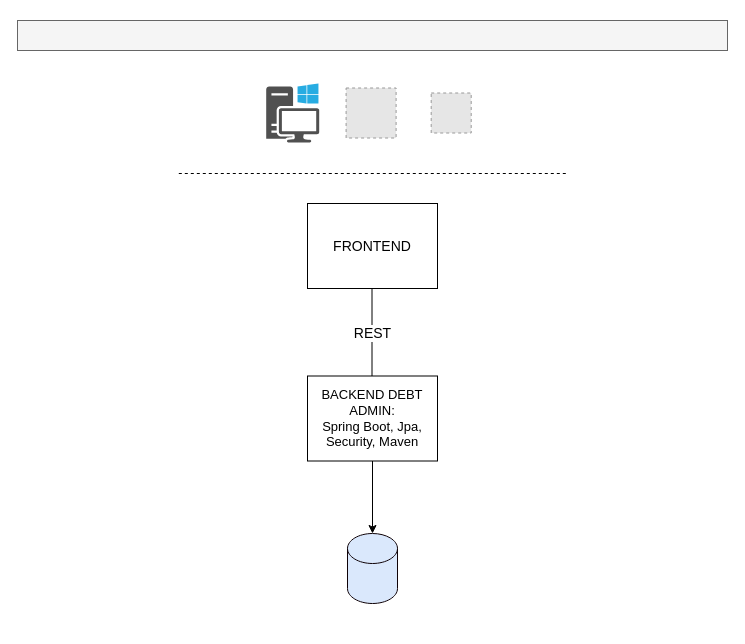
Some shapes in this 745 by 644 pixel diagram are drawn without their labels. Grey dashed boxes stand in for pictures. The shapes that lost their labels are listed below. From the top down, each one's centre as x and y in pixels, then its label:
At point (372, 35): "Diagram Architecture Backend - Debt Administrative".
At point (372, 568): "H2".
